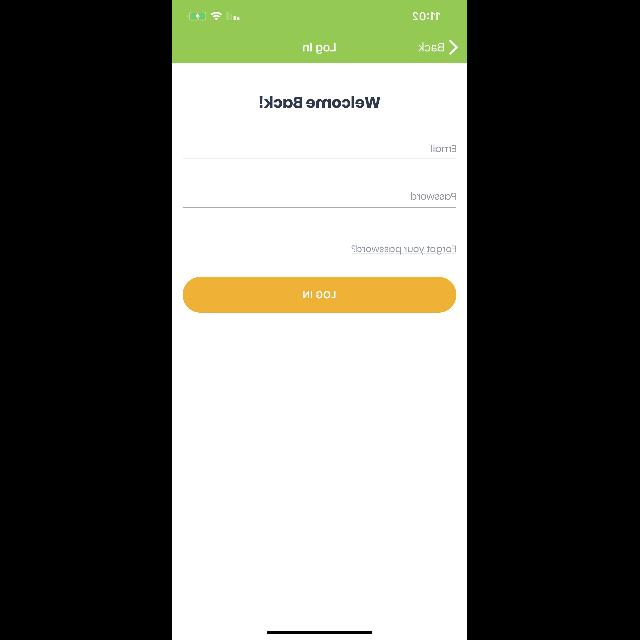icon: (450, 40, 458, 54)
input: (183, 192, 457, 208), (183, 145, 457, 159)
text: (260, 96, 380, 108), (352, 246, 458, 254), (412, 192, 456, 200), (304, 44, 336, 54), (420, 42, 444, 52), (432, 144, 456, 152)
textbutton: (183, 278, 457, 312)
uppertaskbar: (188, 12, 440, 21)
